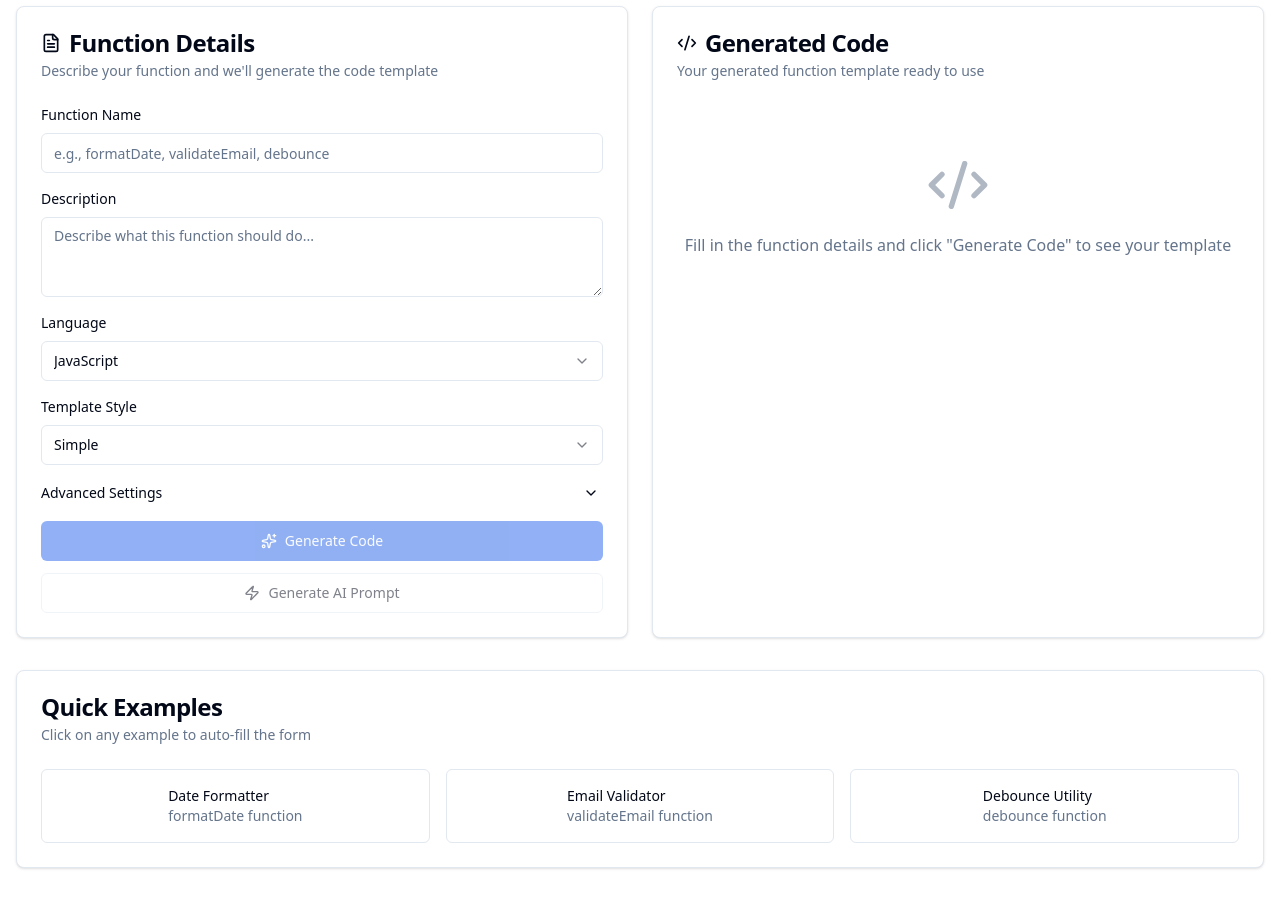
Test: GeneratorPage › fills form when quick example is clicked
(page scrolled)
Click the text "Date Formatter" at coordinates (219, 796), box [168,786,269,805]
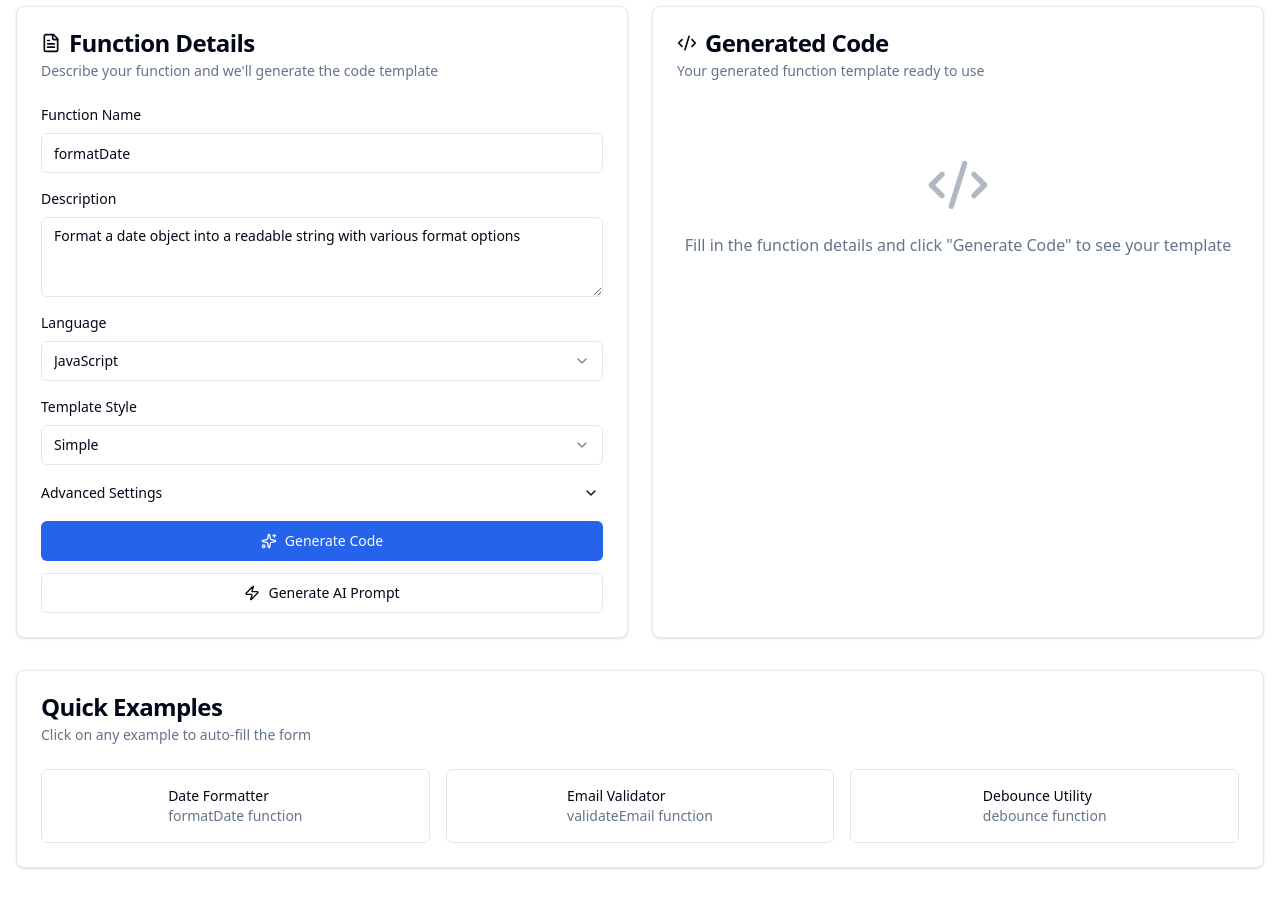
Result: the field with placeholder "e.g., formatDate, validateEmail, debounce" holds "formatDate" at [41,133,603,173]
